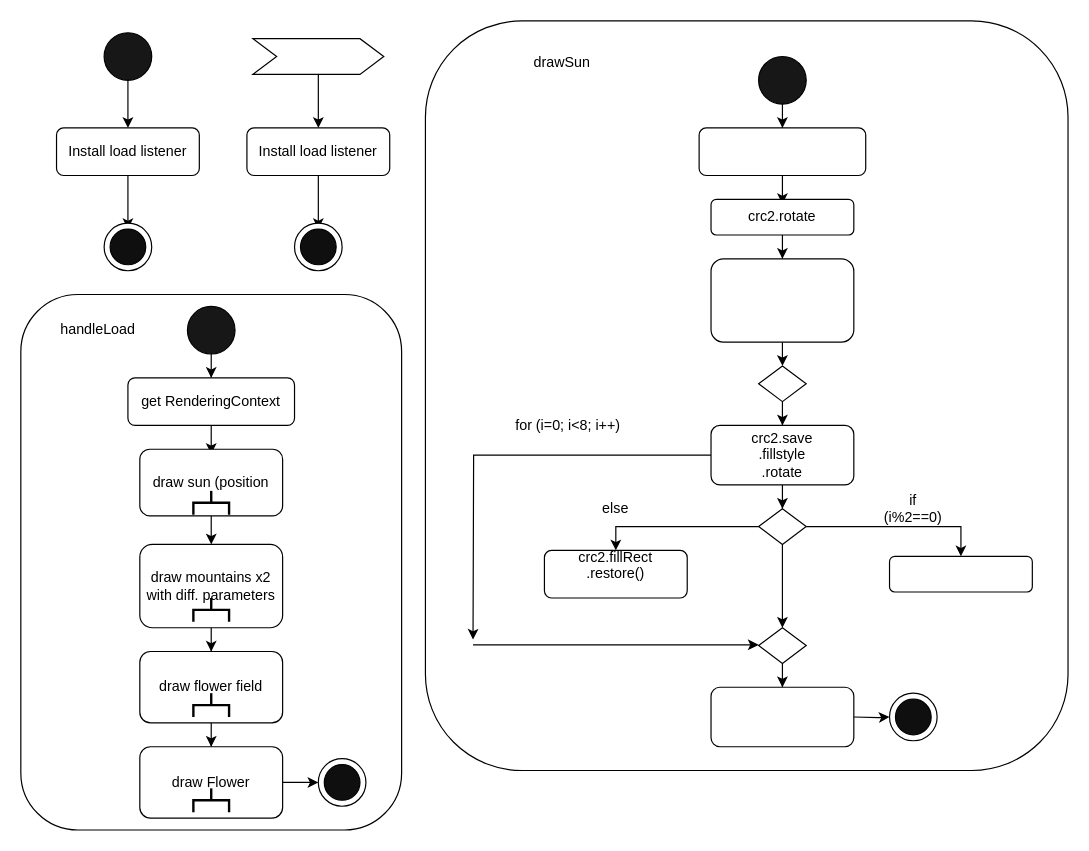
The diagram is 1089 pixels wide and 851 high, and some of its shapes have lost their labels. The centre of each missing label's shape, as x and y in pixels:
"crc2.beginPath .arc .fillstyle .fill()" belongs at (x=782, y=300).
"crc2.fillRect" belongs at (x=960, y=573).
"crc2.moveTo (100, 100)" belongs at (x=782, y=151).
"crc2.restore() setTimeOut" belongs at (x=782, y=716).
"load" belongs at (x=318, y=55).
